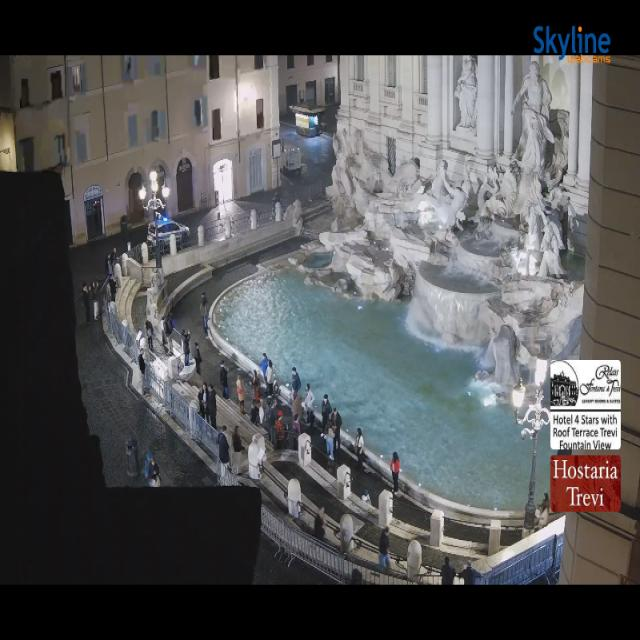person: (332, 408, 342, 459), (265, 400, 276, 445), (232, 426, 244, 467), (379, 528, 391, 569), (536, 493, 550, 528), (205, 385, 216, 428), (460, 560, 479, 584), (218, 426, 230, 464), (304, 384, 314, 428), (138, 351, 147, 395), (289, 415, 300, 450), (148, 455, 160, 487), (236, 373, 245, 415), (441, 557, 455, 584), (390, 452, 399, 494), (321, 395, 331, 432), (314, 508, 325, 541), (325, 422, 334, 461), (275, 411, 284, 449), (164, 313, 172, 355), (355, 428, 363, 469), (265, 360, 274, 396), (220, 362, 229, 398), (198, 384, 207, 418), (91, 282, 99, 319), (200, 293, 207, 335), (83, 283, 90, 324), (182, 330, 190, 365), (538, 493, 550, 516), (194, 343, 202, 375), (292, 391, 302, 416), (252, 371, 260, 402), (145, 320, 153, 351), (160, 318, 167, 351), (250, 400, 259, 425), (260, 353, 268, 381), (292, 368, 301, 392), (111, 248, 118, 274), (351, 569, 363, 584), (292, 413, 300, 435), (109, 277, 116, 302), (105, 253, 112, 276), (259, 400, 265, 425), (362, 490, 371, 504)
